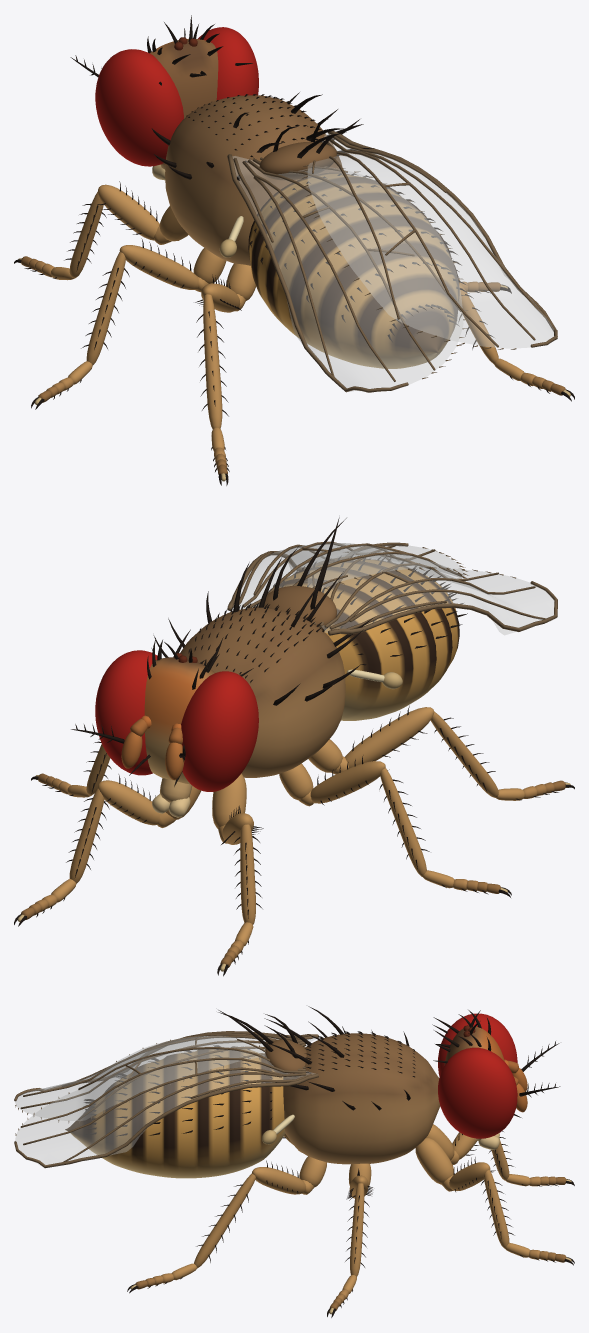
File: drosophila_female.glb
3 views of the same model, one above another, from view 1: azimuth 30°, elevation 25°; view 2: azimuth 150°, elevation 25°; view 3: azimuth 270°, elevation 25° (orthographic). The views are drawn at different scales.
Parts seen in each view (by area): view 1: body, wing_L, wing_R, head, leg_front_L; view 2: body, head, wing_L, wing_R, leg_front_R, leg_front_L; view 3: body, wing_R, head, wing_L, leg_front_R, leg_front_L.
Boxes of the visible parts, x1,y1,x2,y2 form: body: [31, 92, 574, 485]; wing_L: [227, 154, 468, 392]; wing_R: [302, 131, 557, 349]; head: [70, 15, 258, 180]; leg_front_L: [14, 181, 188, 280]; body: [31, 517, 574, 897]; head: [71, 629, 258, 817]; wing_L: [302, 550, 557, 635]; wing_R: [227, 541, 468, 610]; leg_front_R: [14, 774, 200, 926]; leg_front_L: [212, 773, 263, 976]; body: [65, 1006, 440, 1317]; wing_R: [14, 1035, 318, 1168]; head: [432, 1010, 560, 1150]; wing_L: [14, 1031, 318, 1123]; leg_front_R: [415, 1137, 574, 1265]; leg_front_L: [426, 1124, 574, 1186].
Bounding box in the file's own units: 0.3023 × 0.1628 × 0.3844.
